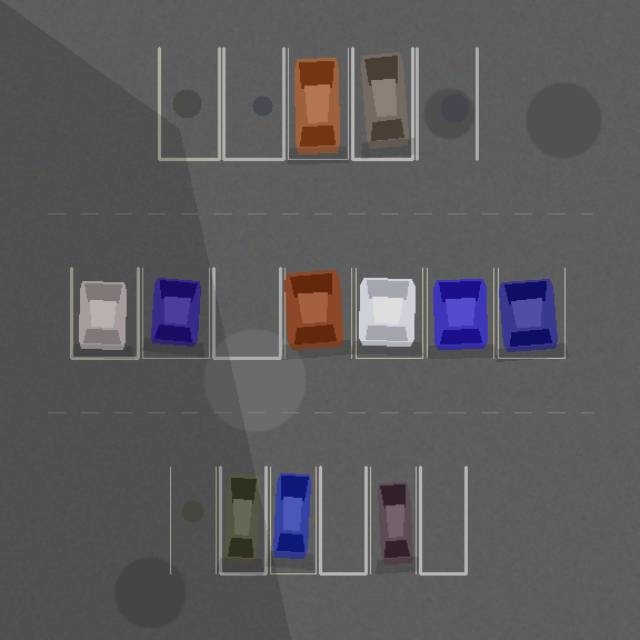space-empty: (159, 48, 219, 159), (223, 48, 283, 159), (417, 48, 477, 159), (213, 268, 280, 358), (170, 467, 216, 573), (320, 467, 366, 573), (420, 467, 466, 573)
space-occupied: (288, 48, 348, 159), (352, 48, 412, 159), (71, 268, 138, 358), (142, 268, 209, 358), (284, 268, 351, 358), (356, 268, 422, 358), (427, 268, 493, 358), (498, 268, 564, 358), (220, 467, 266, 573), (270, 467, 316, 573), (370, 467, 416, 573)
